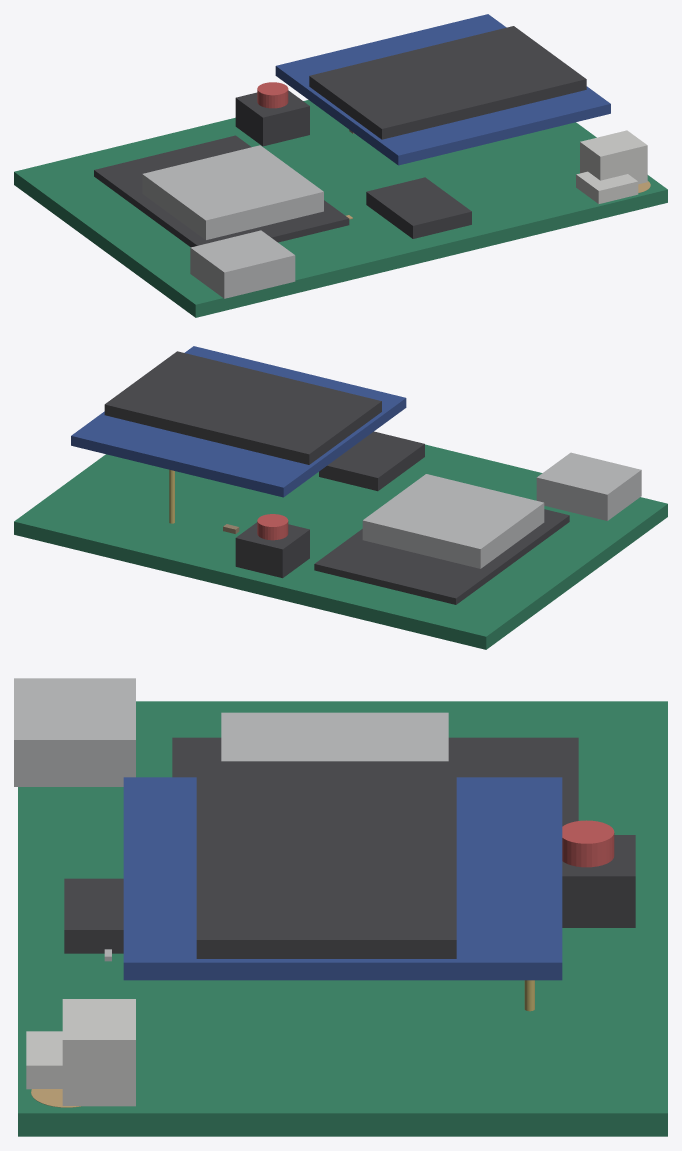
Rendered from smart-pills-box-demo.glb.
The picture shows the model from 3 angles, top to bottom: view 1: azimuth 30°, elevation 25°; view 2: azimuth 150°, elevation 25°; view 3: azimuth 270°, elevation 25°; orthographic projection. The views are drawn at different scales.
Parts seen in each view (by area): view 1: board, oled_glass, oled_pcb, esp_shield, esp_pcb, usbc, rtc, btn, jst, led, cap; view 2: board, oled_glass, oled_pcb, esp_shield, esp_pcb, usbc, rtc, btn, cap; view 3: board, oled_glass, oled_pcb, usbc, esp_shield, jst, esp_pcb, btn, rtc, cap, led.
Part boxes in pixels (box(x1,y1,x2,y2)): board: box(14, 100, 667, 317); oled_glass: box(309, 26, 586, 139); oled_pcb: box(275, 14, 610, 165); esp_shield: box(142, 145, 323, 239); esp_pcb: box(94, 135, 349, 247); usbc: box(190, 230, 295, 298); rtc: box(366, 177, 471, 238); btn: box(235, 90, 309, 146); jst: box(580, 130, 647, 184); led: box(576, 171, 638, 203); cap: box(257, 82, 288, 108); board: box(14, 444, 667, 649); oled_glass: box(104, 351, 381, 464); oled_pcb: box(71, 346, 406, 497); esp_shield: box(362, 474, 544, 568); esp_pcb: box(314, 509, 569, 604); usbc: box(536, 452, 641, 520); rtc: box(319, 431, 424, 491); btn: box(235, 522, 309, 578); cap: box(257, 514, 288, 540); board: box(18, 701, 667, 1136); oled_glass: box(196, 761, 456, 958); oled_pcb: box(123, 777, 562, 980); usbc: box(14, 678, 135, 786); esp_shield: box(221, 712, 448, 761); jst: box(62, 999, 135, 1106); esp_pcb: box(172, 737, 578, 826); btn: box(562, 835, 635, 927); rtc: box(64, 878, 123, 953); cap: box(562, 820, 614, 867); led: box(26, 1031, 62, 1089).
Bounding box in the file's own units: 60 × 11.52 × 40.25.
